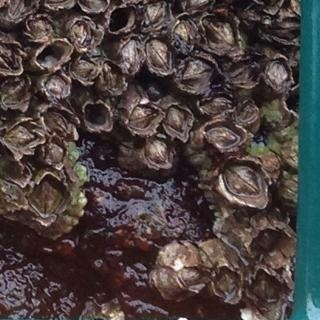Barnacle: (221, 161, 268, 203), (27, 174, 67, 223), (158, 262, 203, 300), (247, 272, 288, 309), (204, 17, 239, 53), (2, 122, 36, 157), (170, 18, 199, 56), (139, 0, 173, 30), (213, 265, 241, 301), (181, 57, 212, 88), (40, 108, 70, 139), (205, 125, 242, 150), (146, 36, 171, 72), (115, 37, 142, 68), (144, 136, 170, 167), (127, 106, 161, 129), (199, 93, 236, 114), (255, 226, 281, 253), (44, 73, 70, 100), (28, 17, 55, 42), (0, 39, 21, 71), (166, 103, 188, 133), (72, 21, 93, 52), (42, 142, 67, 168), (72, 56, 98, 81), (267, 60, 288, 88), (7, 0, 37, 19), (104, 62, 122, 93), (187, 0, 215, 13), (239, 102, 257, 121)
